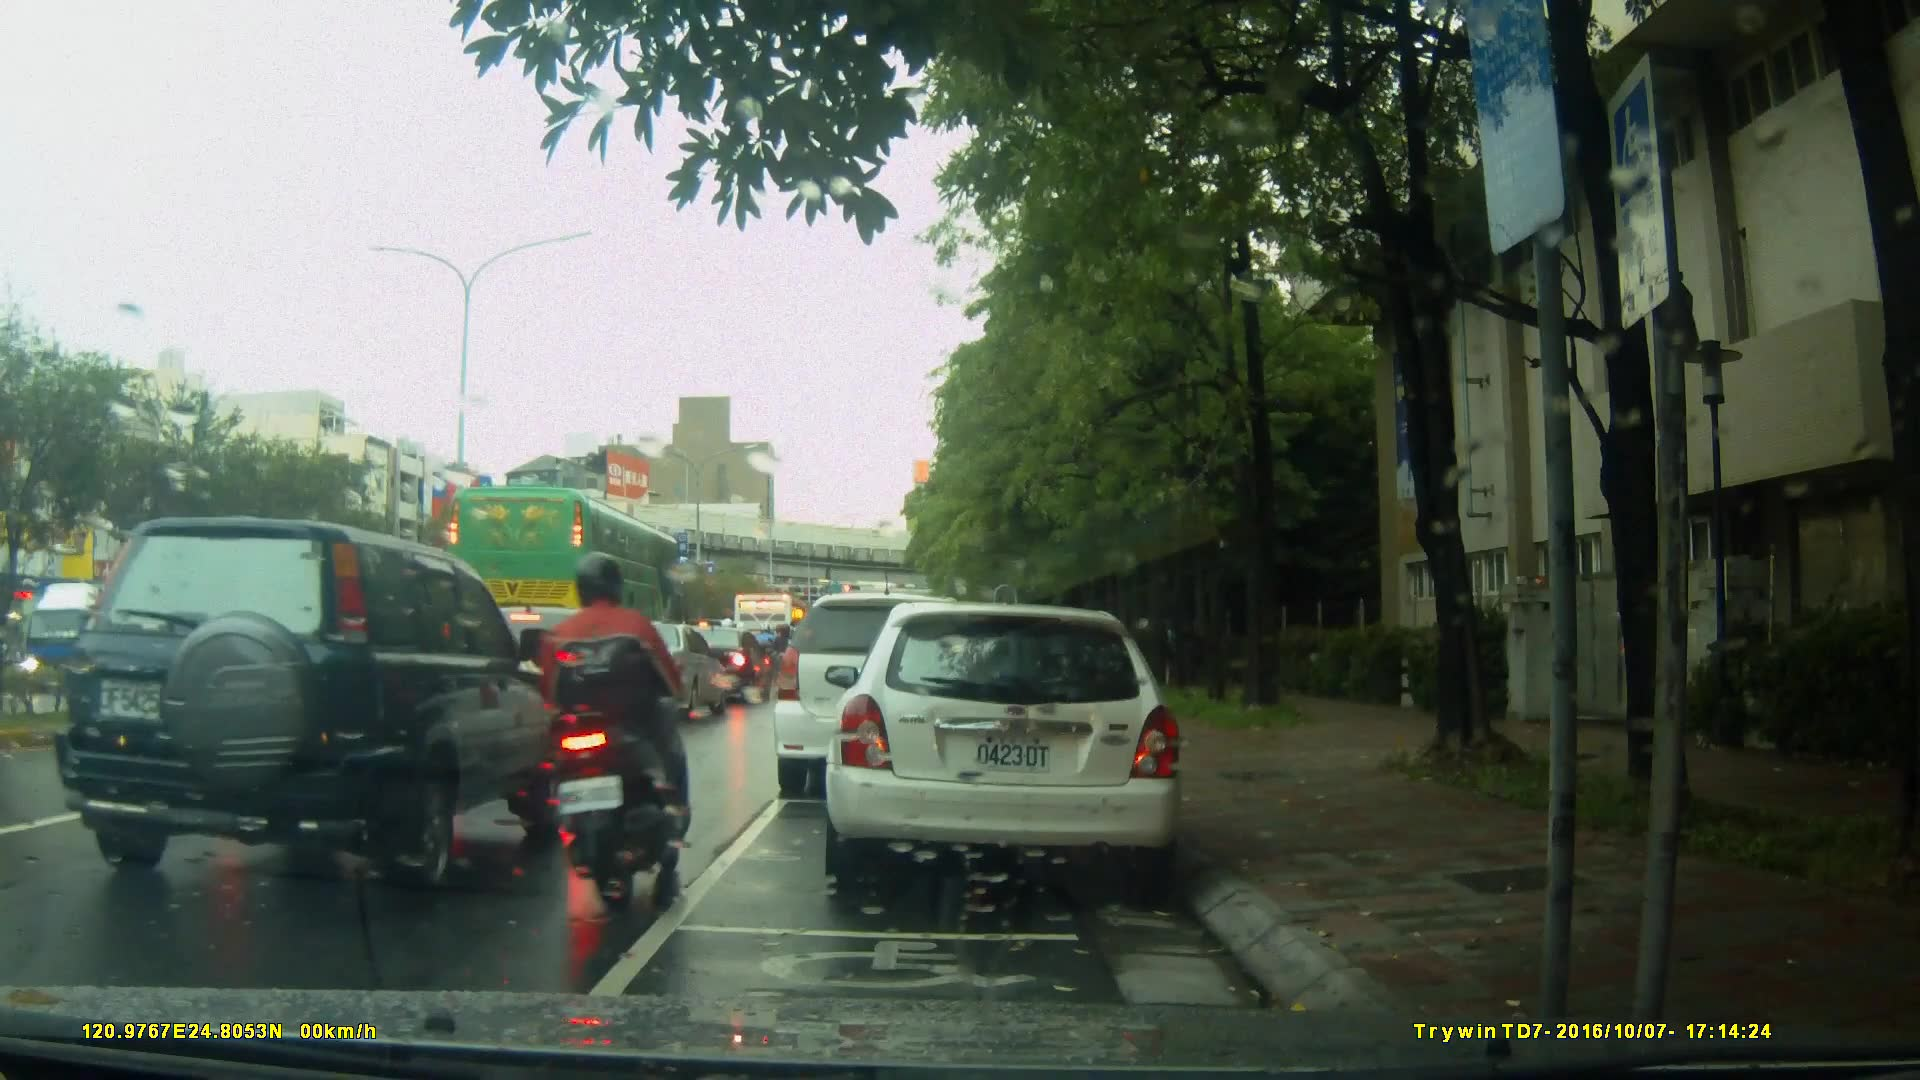rider: (540, 559, 686, 907)
vehicle: (60, 514, 581, 879), (831, 592, 1196, 897), (772, 594, 999, 801), (444, 482, 688, 659), (451, 606, 673, 760), (22, 576, 164, 684), (605, 620, 729, 724), (679, 626, 776, 709)
